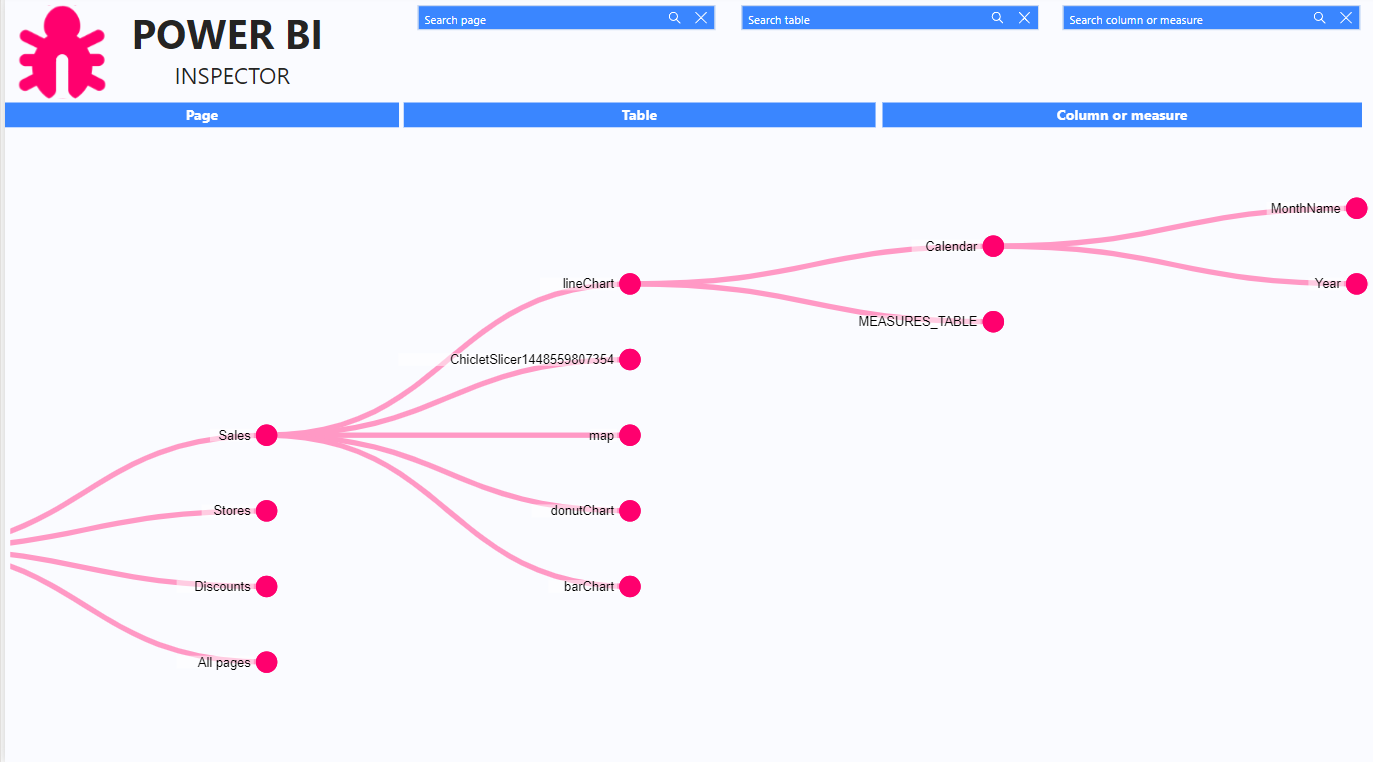

What the dashboard file says about the page in this screenshot:
{"tool":"powerbi","page":{"name":"TREE_PAGE","canvas":[1280,720],"ordinal":0},"visuals":[{"type":"actionButton","box":[5.4,5.4,107.3,95.3],"z":0,"group":"g1"},{"type":"textbox","box":[112.7,5.4,198.2,95.3],"z":1000,"group":"g1"},{"type":"testTooltip4696B540F3494FE5BA002362825DDE7D","fields":{"category":["TABLES_AND_COLUMNS.PAGE_NAME","TABLES_AND_COLUMNS.VISUAL_TYPE","TABLES_AND_COLUMNS.TABLE_NAME","TABLES_AND_COLUMNS.COLUMNS_AND_MEASURES"]},"box":[0,124.5,1280.4,595.5],"z":1000},{"type":"group","id":"g1","title":"logo","box":[5.4,5.4,305.7,95],"z":2000},{"type":"textSearchSlicerF85E2E78BE4A4D7D9F99ED75B5D71C85","title":"Page filter","fields":{"fields":["TABLES_AND_COLUMNS.COLUMNS_AND_MEASURES"]},"box":[979.9,0,300.3,41.4],"z":3000},{"type":"textSearchSlicerF85E2E78BE4A4D7D9F99ED75B5D71C85","title":"Table filter","fields":{"fields":["TABLES_AND_COLUMNS.TABLE_NAME"]},"box":[680.1,0,299.8,41.1],"z":4000},{"type":"textSearchSlicerF85E2E78BE4A4D7D9F99ED75B5D71C85","title":"Column and measure filter","fields":{"fields":["TABLES_AND_COLUMNS.PAGE_NAME"]},"box":[377,0,300.3,41.4],"z":5000},{"type":"actionButton","box":[0,101,368.8,23.6],"z":6000},{"type":"actionButton","box":[373,100.4,441.3,23.6],"z":7000},{"type":"actionButton","box":[821,100.4,448.6,23.6],"z":8000}]}

Visuals, with their boxes on the page's 1280x720 design canvas (x1, y1, x2, y2). These are canvas units, not pixel positions in the 1373x762 screenshot, which may show the page scaled, cropped or inside an application window:
actionButton: (x1=5, y1=5, x2=113, y2=101)
textbox: (x1=113, y1=5, x2=311, y2=101)
testTooltip4696B540F3494FE5BA002362825DDE7D - TABLES_AND_COLUMNS.PAGE_NAME x TABLES_AND_COLUMNS.VISUAL_TYPE: (x1=0, y1=124, x2=1280, y2=720)
"logo" group: (x1=5, y1=5, x2=311, y2=100)
"Page filter" textSearchSlicerF85E2E78BE4A4D7D9F99ED75B5D71C85: (x1=980, y1=0, x2=1280, y2=41)
"Table filter" textSearchSlicerF85E2E78BE4A4D7D9F99ED75B5D71C85: (x1=680, y1=0, x2=980, y2=41)
"Column and measure filter" textSearchSlicerF85E2E78BE4A4D7D9F99ED75B5D71C85: (x1=377, y1=0, x2=677, y2=41)
actionButton: (x1=0, y1=101, x2=369, y2=125)
actionButton: (x1=373, y1=100, x2=814, y2=124)
actionButton: (x1=821, y1=100, x2=1270, y2=124)
